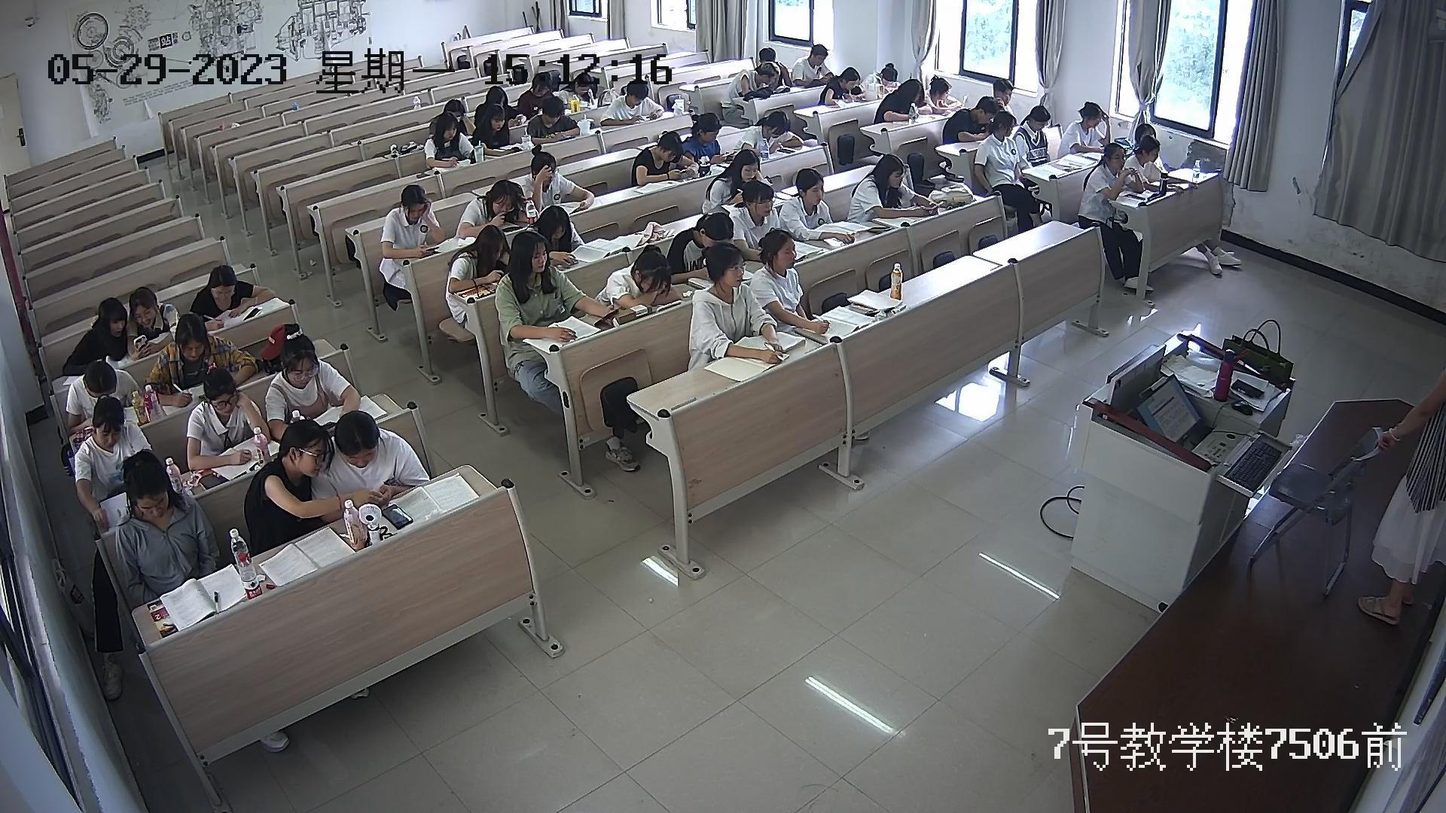Bend Over The Desk: (610, 254, 674, 307)
Look Around: (739, 62, 778, 97)
phone: (593, 303, 625, 330), (127, 334, 150, 358), (497, 213, 520, 235), (559, 247, 578, 270), (920, 198, 946, 213), (675, 167, 697, 181), (427, 243, 443, 257), (778, 141, 794, 155)
